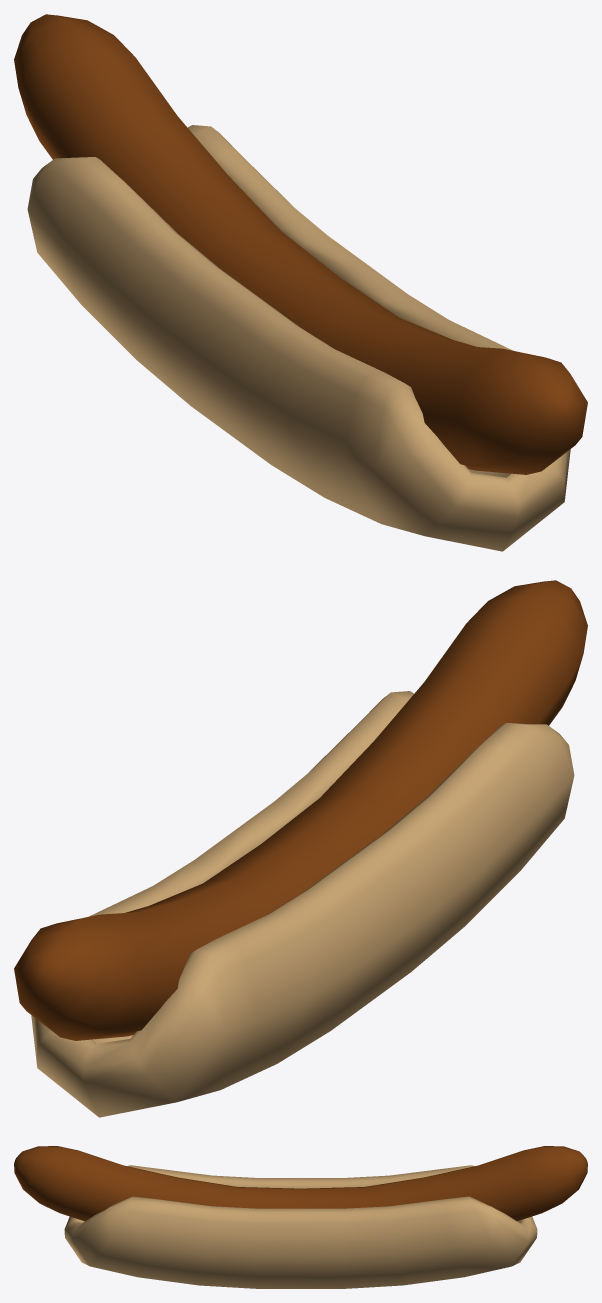
Rendered from hotdog.glb.
3 views of the same model, one above another, from view 1: azimuth 30°, elevation 25°; view 2: azimuth 150°, elevation 25°; view 3: azimuth 270°, elevation 25° (orthographic). The views are drawn at different scales.
Visible parts, largest first — view 1: 1.009, 0.009; view 2: 1.009, 0.009; view 3: 1.009, 0.009.
Part boxes in pixels (left/top/right/bottom): 1.009: left=27, top=125, right=570, bottom=551; 0.009: left=14, top=14, right=587, bottom=474; 1.009: left=31, top=691, right=574, bottom=1117; 0.009: left=14, top=580, right=587, bottom=1040; 1.009: left=64, top=1165, right=537, bottom=1288; 0.009: left=14, top=1146, right=587, bottom=1221.
Size of the model in its own units: 0.0767 by 0.0951 by 0.3542.
